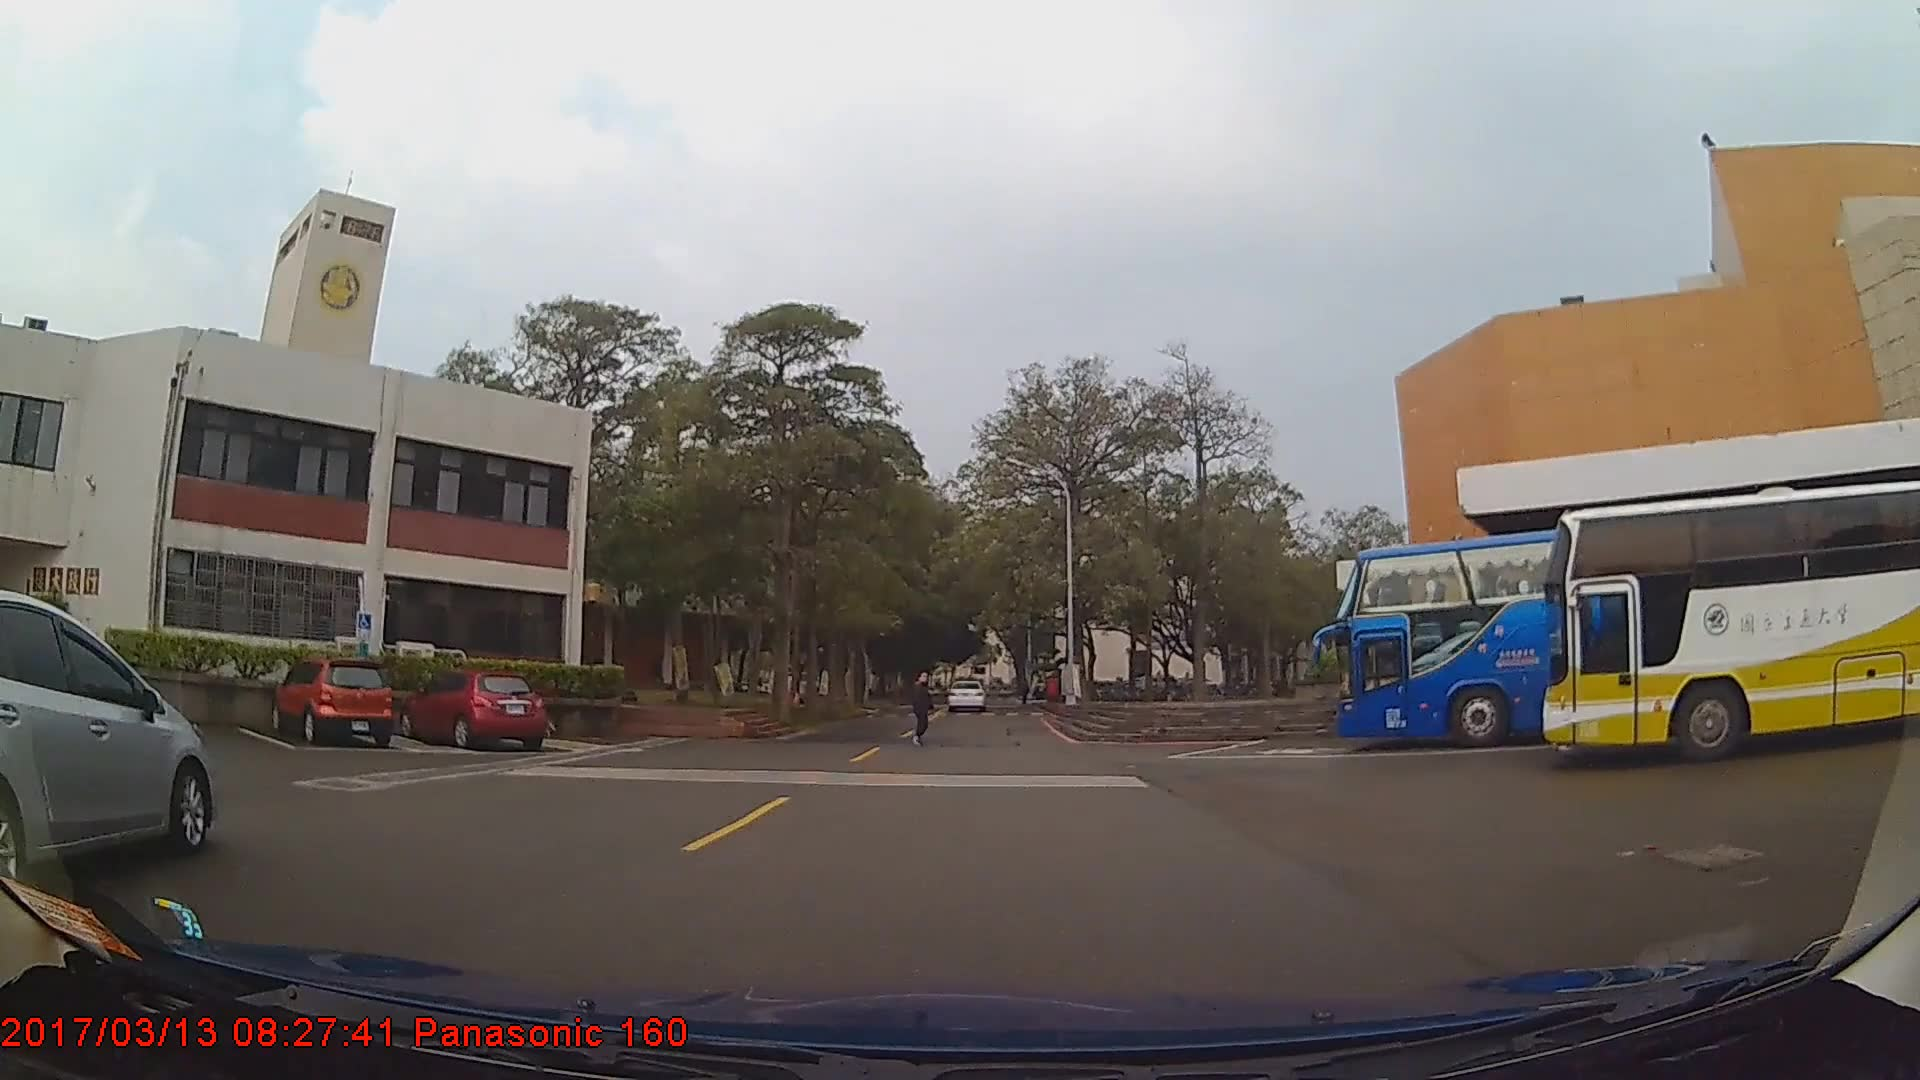pedestrian: (907, 670, 937, 746)
vehicle: (1333, 510, 1920, 750), (1542, 476, 1920, 764), (0, 588, 217, 892), (396, 669, 548, 749), (266, 658, 395, 749), (944, 678, 989, 716)
